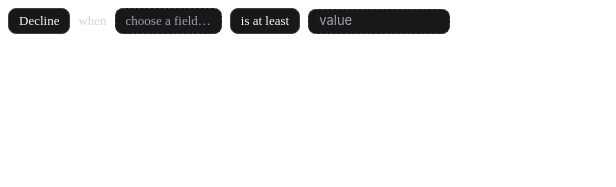
it: <StatementComposer> (Brief 70.1) › renders ONLY the given options — no invented affordances
Click the button with test id "rater-composer-slot-op" at (265, 21), box top-left (230, 8), bottom-right (300, 34)
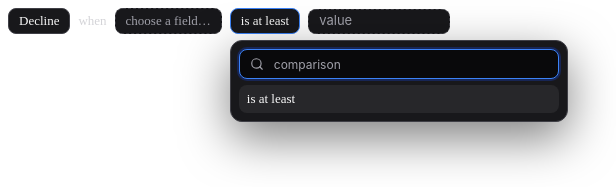
Result: the number of options is 1 at top-left (239, 85), bottom-right (559, 113)
Result: the option reads "is at least" at top-left (239, 85), bottom-right (559, 113)
